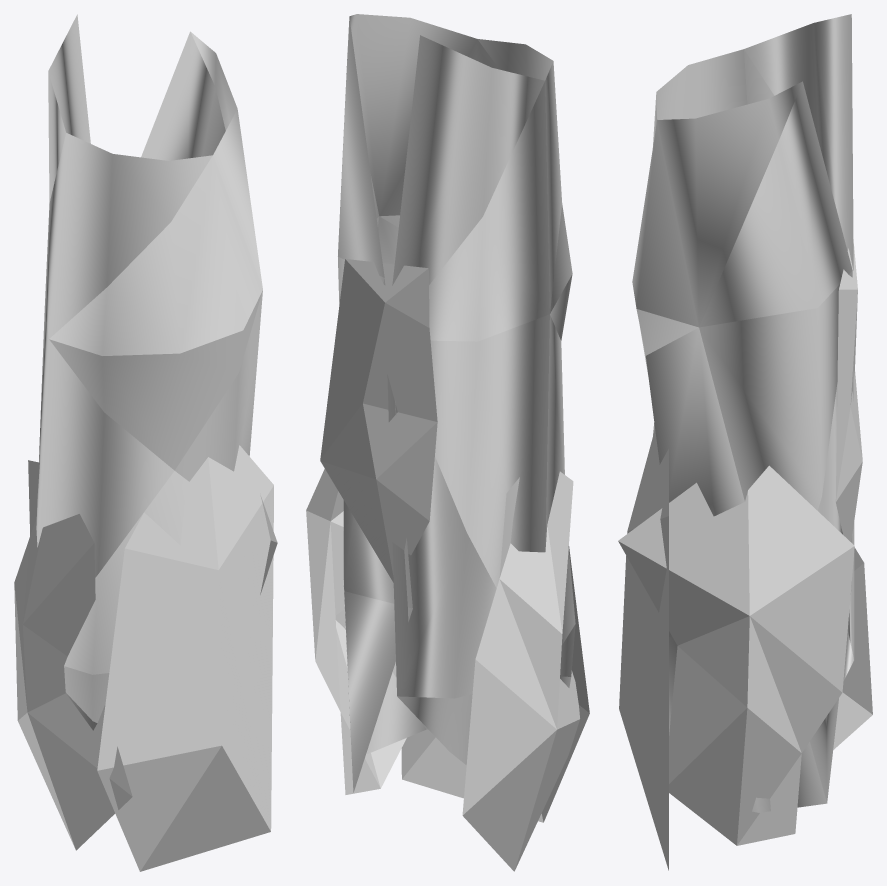
Rendered from SM_Env_Ivy_Pillar_01.glb.
3 renders of one model, left to right at view 1: azimuth 30°, elevation 25°; view 2: azimuth 150°, elevation 25°; view 3: azimuth 270°, elevation 25°, orthographic. The views are drawn at different scales.
Parts seen in each view (by area): view 1: SM_Env_Ivy_Pillar_01; view 2: SM_Env_Ivy_Pillar_01; view 3: SM_Env_Ivy_Pillar_01.
Boxes of the visible parts, <box> form: SM_Env_Ivy_Pillar_01: <box>14,14,277,871</box>; SM_Env_Ivy_Pillar_01: <box>306,14,589,871</box>; SM_Env_Ivy_Pillar_01: <box>618,14,872,870</box>.
Bounding box in the file's own units: 0.6644 × 2.24 × 0.6302.
1 material, 1 textured.
